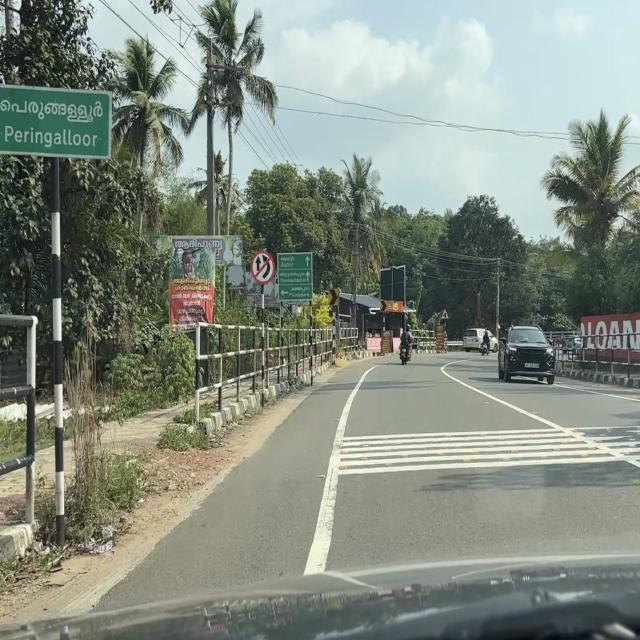GENERAL: (0, 82, 112, 161), (276, 250, 314, 303)
OVERTAKING_PROHIBITED: (250, 250, 275, 285)
TURN_RIGHT: (328, 288, 338, 306), (380, 300, 387, 312)
